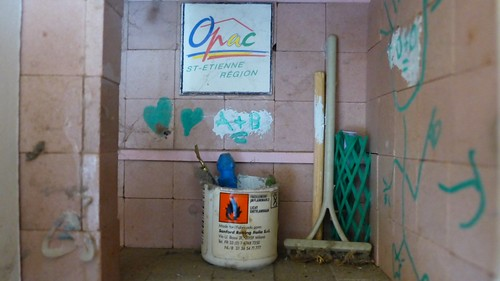sign: (182, 1, 276, 103)
trash can: (190, 164, 293, 266)
